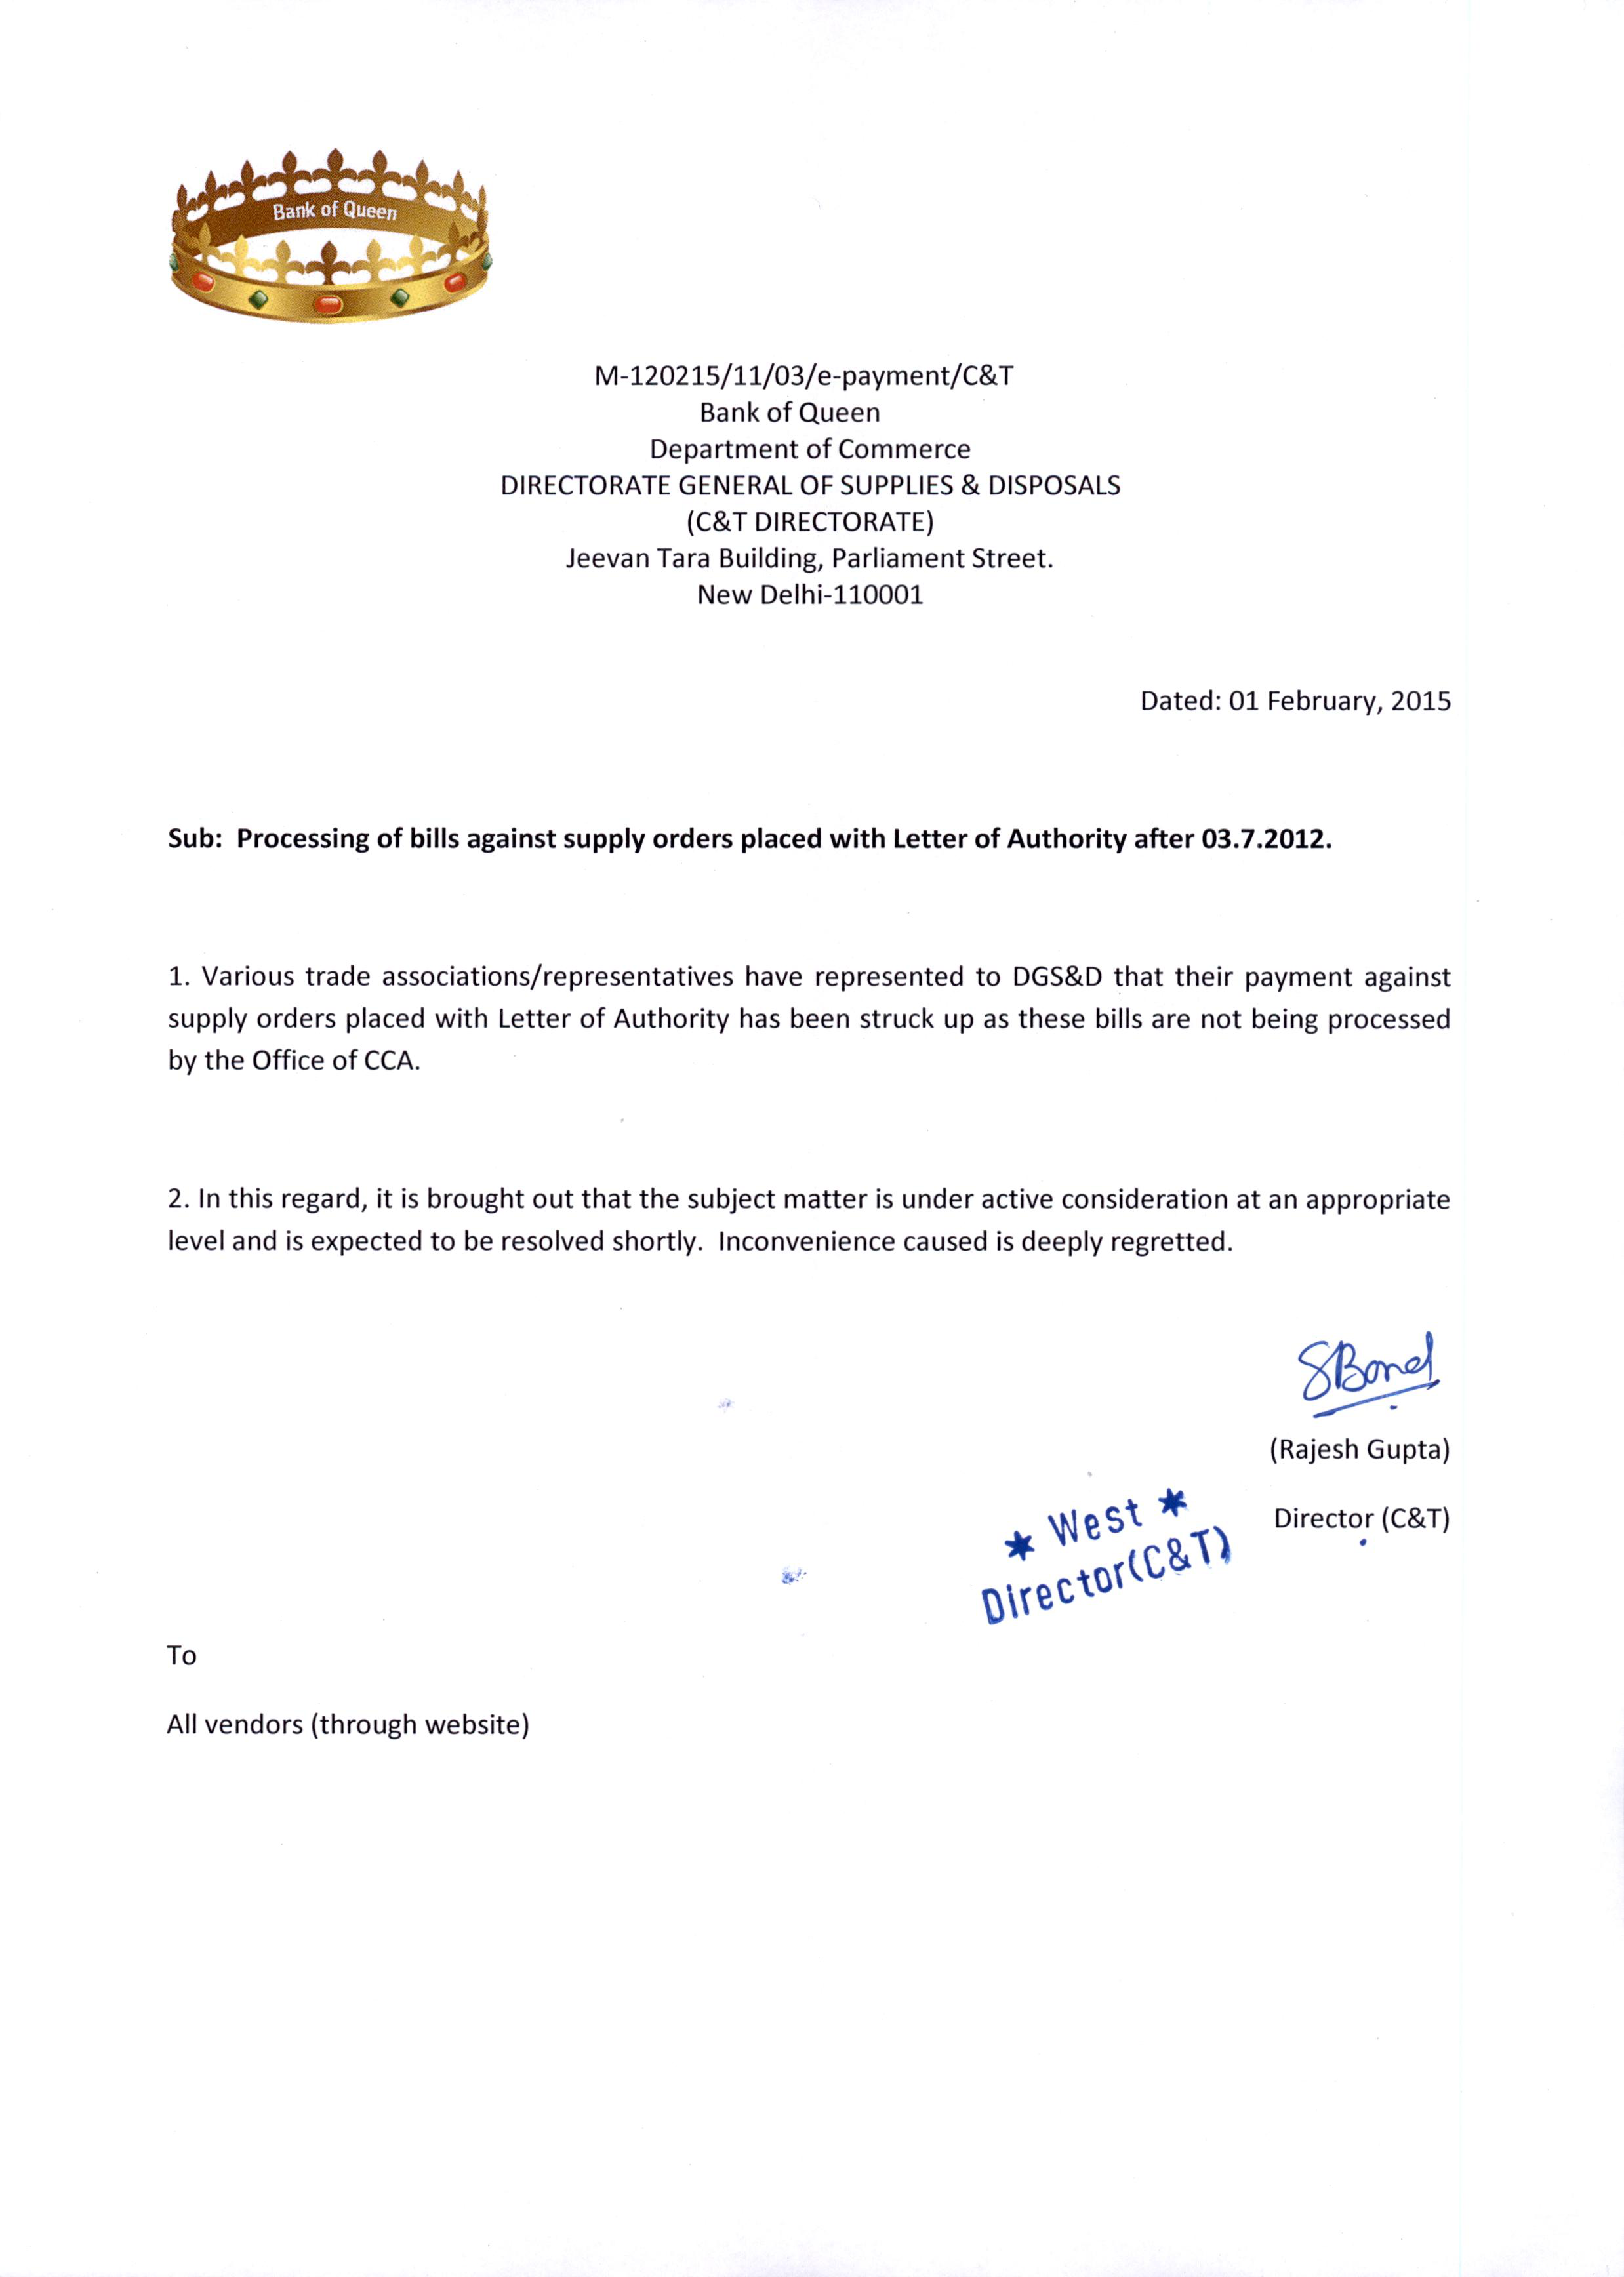Signature: (1290, 1325, 1454, 1423)
